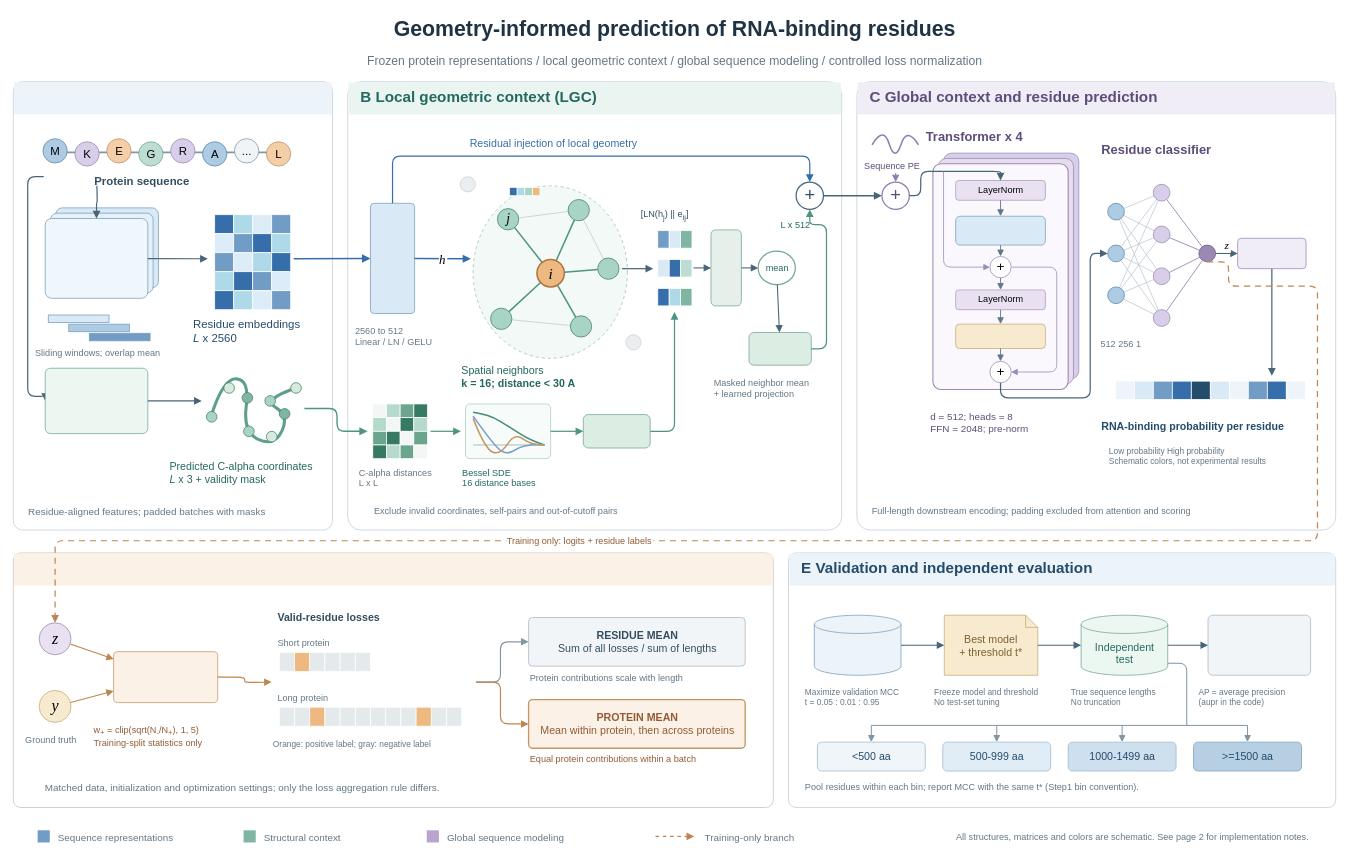
The diagram is 1350 pixels wide and 858 high, and some of its shapes have lost their labels. Each missing label, with the centre of its shape:
"A Sequence and structure features" belongs at pixel 172 98.
"D Controlled loss-normalization experiment" belongs at pixel 393 569.
"Edge MLP" belongs at pixel 616 431.
"ESM2-3B Frozen encoder" belongs at pixel 96 258.
"ESM3 Structure prediction" belongs at pixel 96 400.
"FFN + GELU" belongs at pixel 1000 335.
"Message MLP" belongs at pixel 725 267.
"Multi-head attention" belongs at pixel 1000 230.
"OutProj" belongs at pixel 779 348.
"Overall metrics MCC / F1 AUROC / AP" belongs at pixel 1259 644.
"Projection" belongs at pixel 392 258.
"Sigmoid" belongs at pixel 1271 253.
"Validation" belongs at pixel 857 644.
"Weighted focal gamma = 2" belongs at pixel 165 677.
